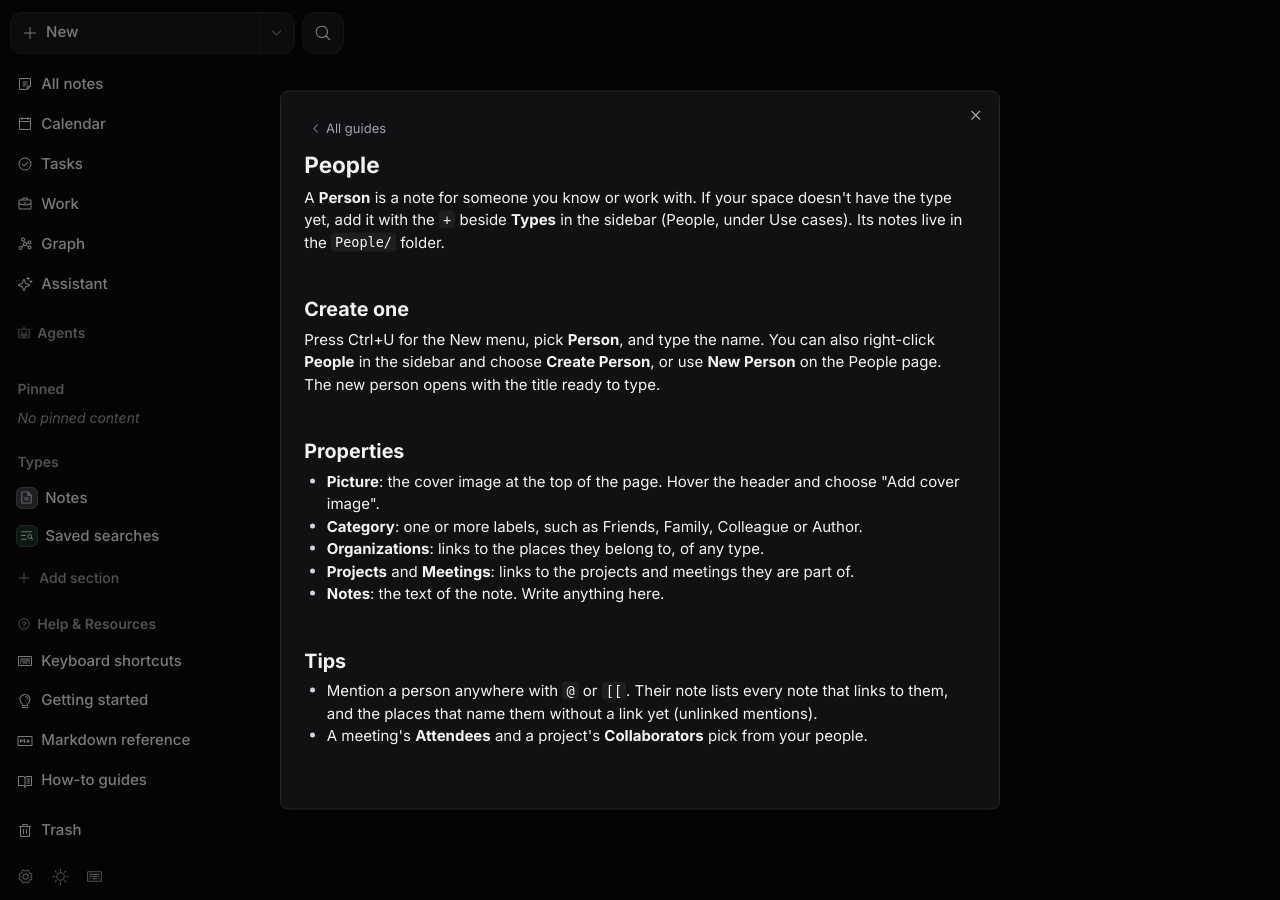
Test case: Help & Resources (sidebar) › How-to guides lists the guides and opens each read-only, with no request off this machine and no write (D1)
This screenshot has width=1280, height=900.
Earlier steps of the test are not shown.
Later steps or results of the test are not shown.
Expected: the heading "People" is shown, x1=304 y1=151 x2=380 y2=178
Click the button "All guides": click(348, 128) x1=304 y1=115 x2=392 y2=142
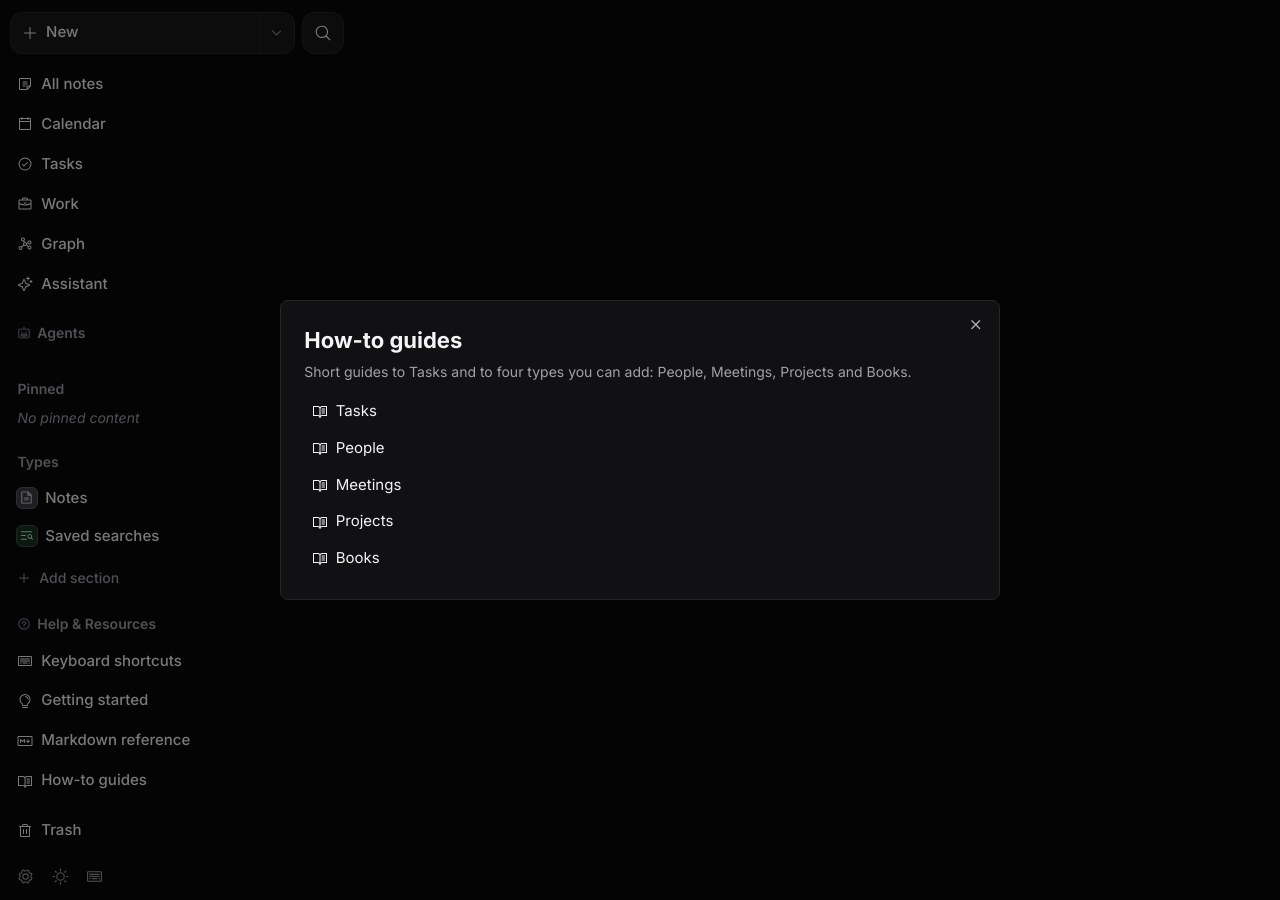
Click the button "Meetings": click(369, 484) x1=304 y1=467 x2=976 y2=502
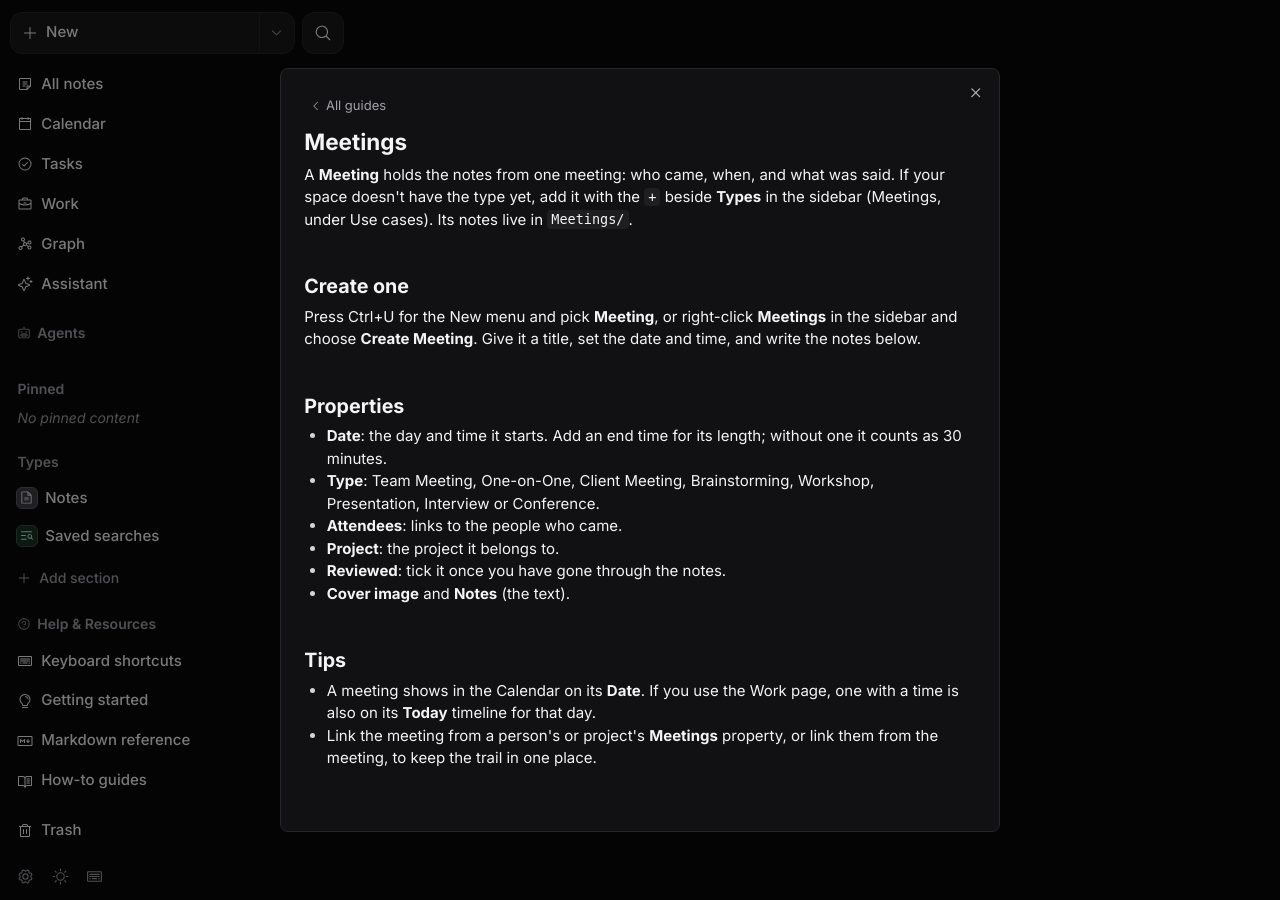
Expected: the heading "Meetings" is shown, x1=304 y1=128 x2=407 y2=155
Click the button "All guides": click(348, 106) x1=304 y1=92 x2=392 y2=120
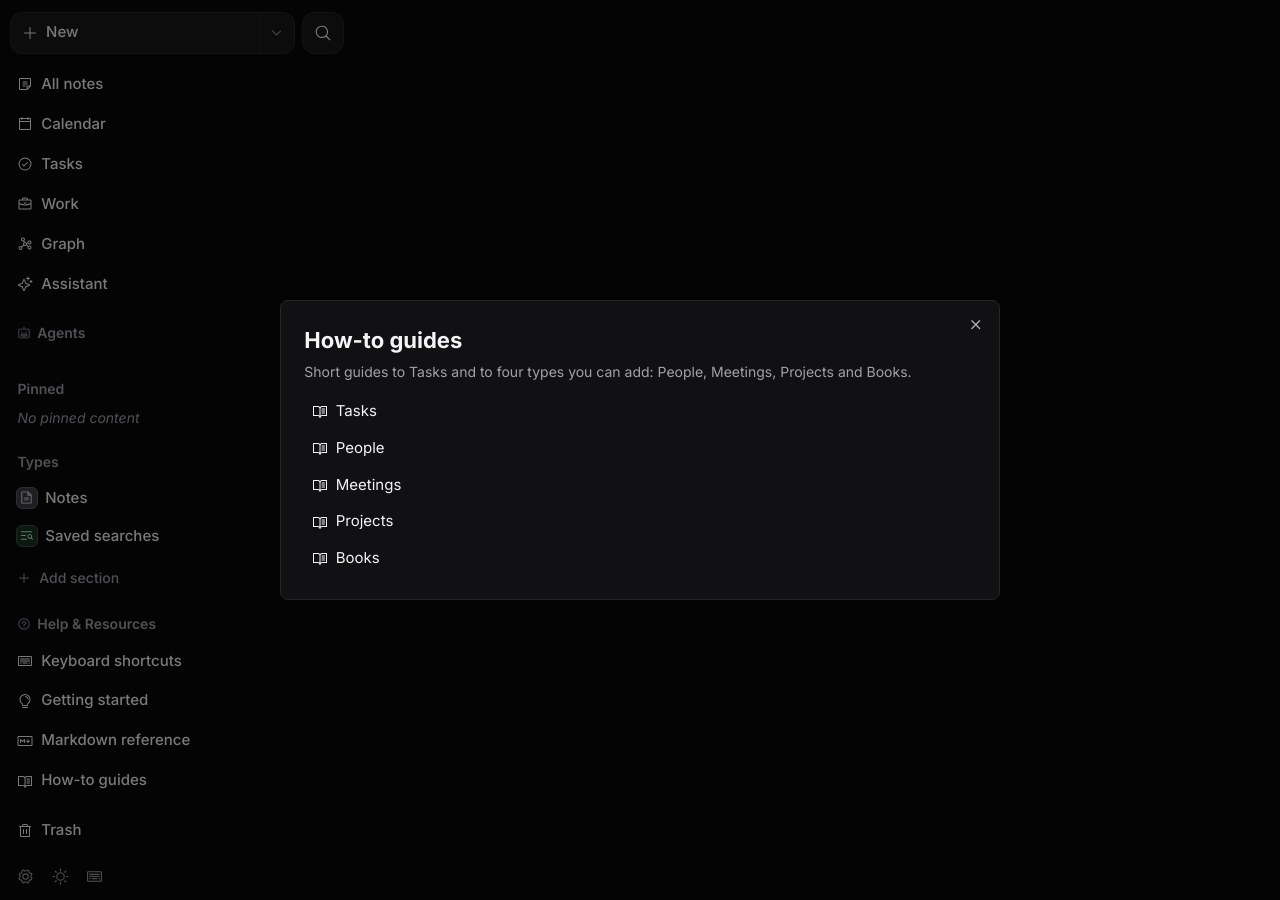
Click the button "Projects": click(365, 521) x1=304 y1=504 x2=976 y2=539
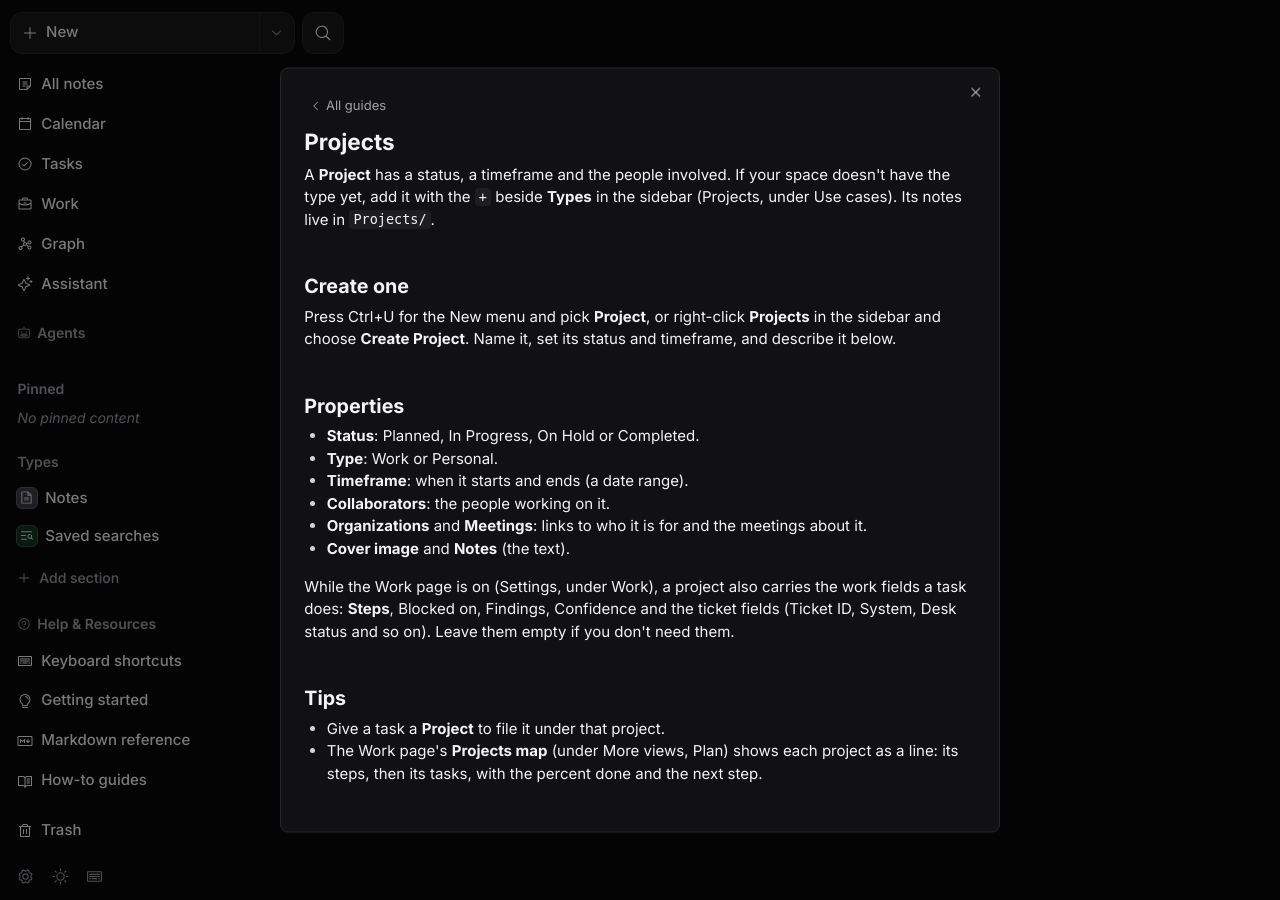
Expected: the heading "Projects" is shown, x1=304 y1=128 x2=395 y2=155
Click the button "All guides": click(348, 105) x1=304 y1=92 x2=392 y2=119
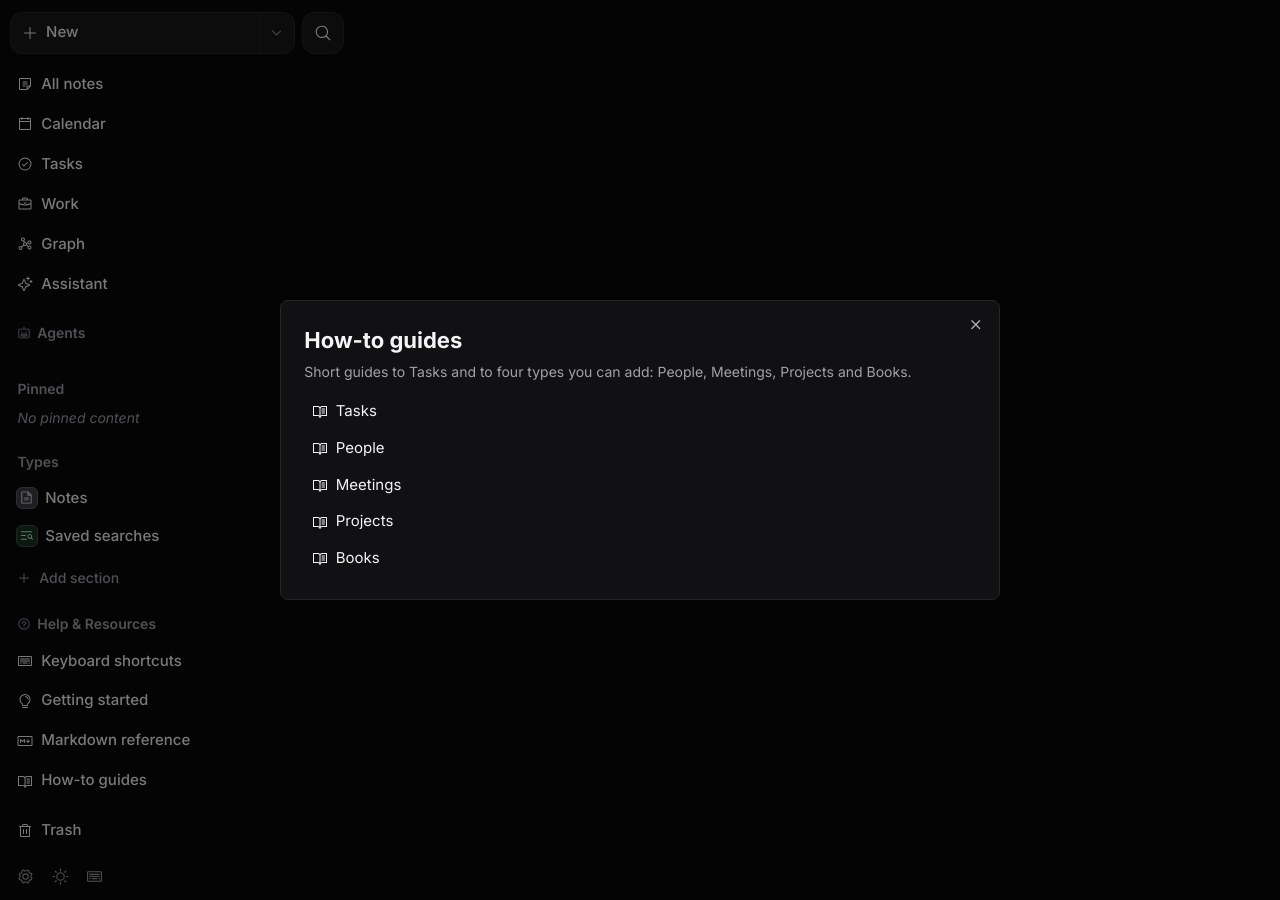
Click the button "Books": click(358, 558) x1=304 y1=541 x2=976 y2=576
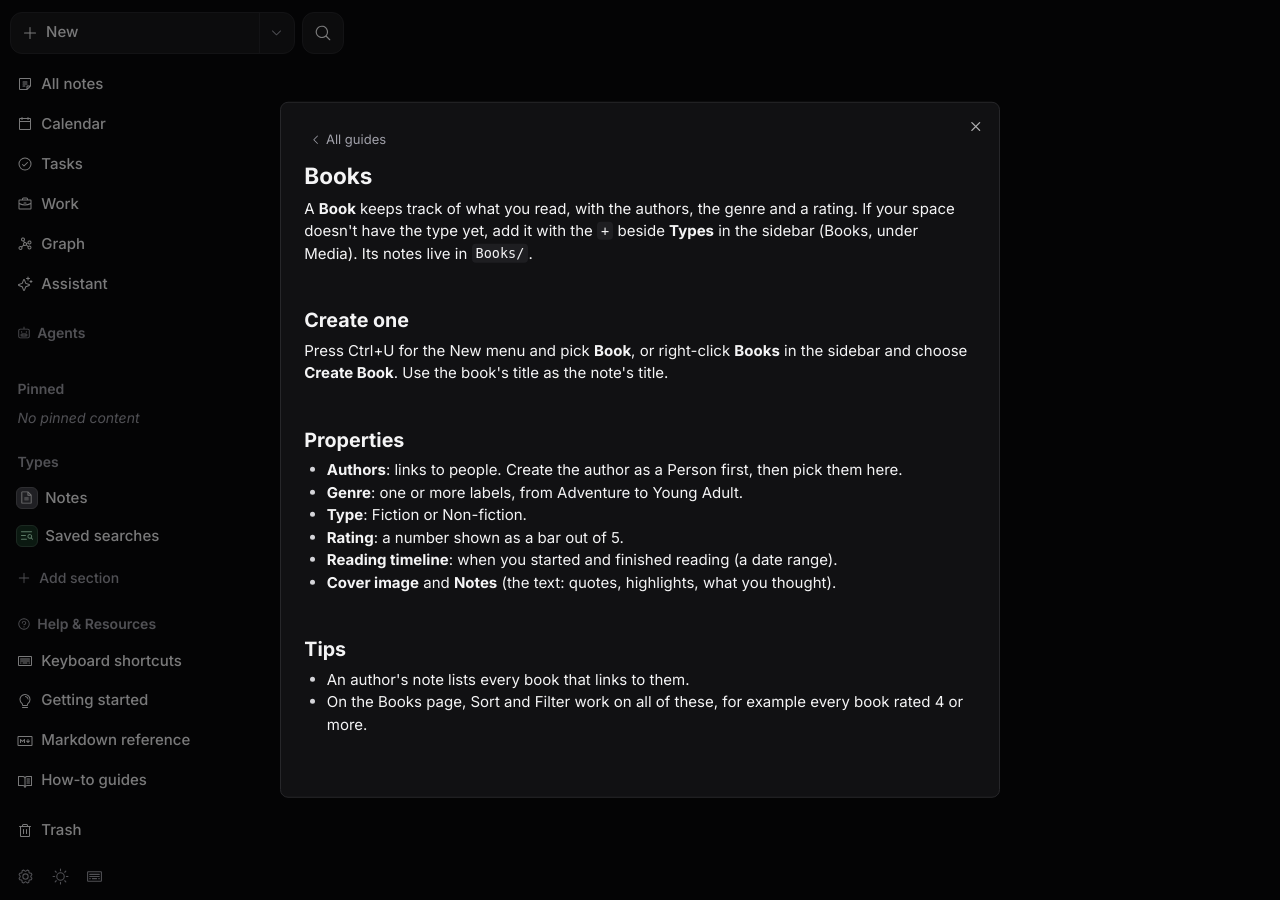
Expected: the heading "Books" is shown, x1=304 y1=162 x2=372 y2=189
